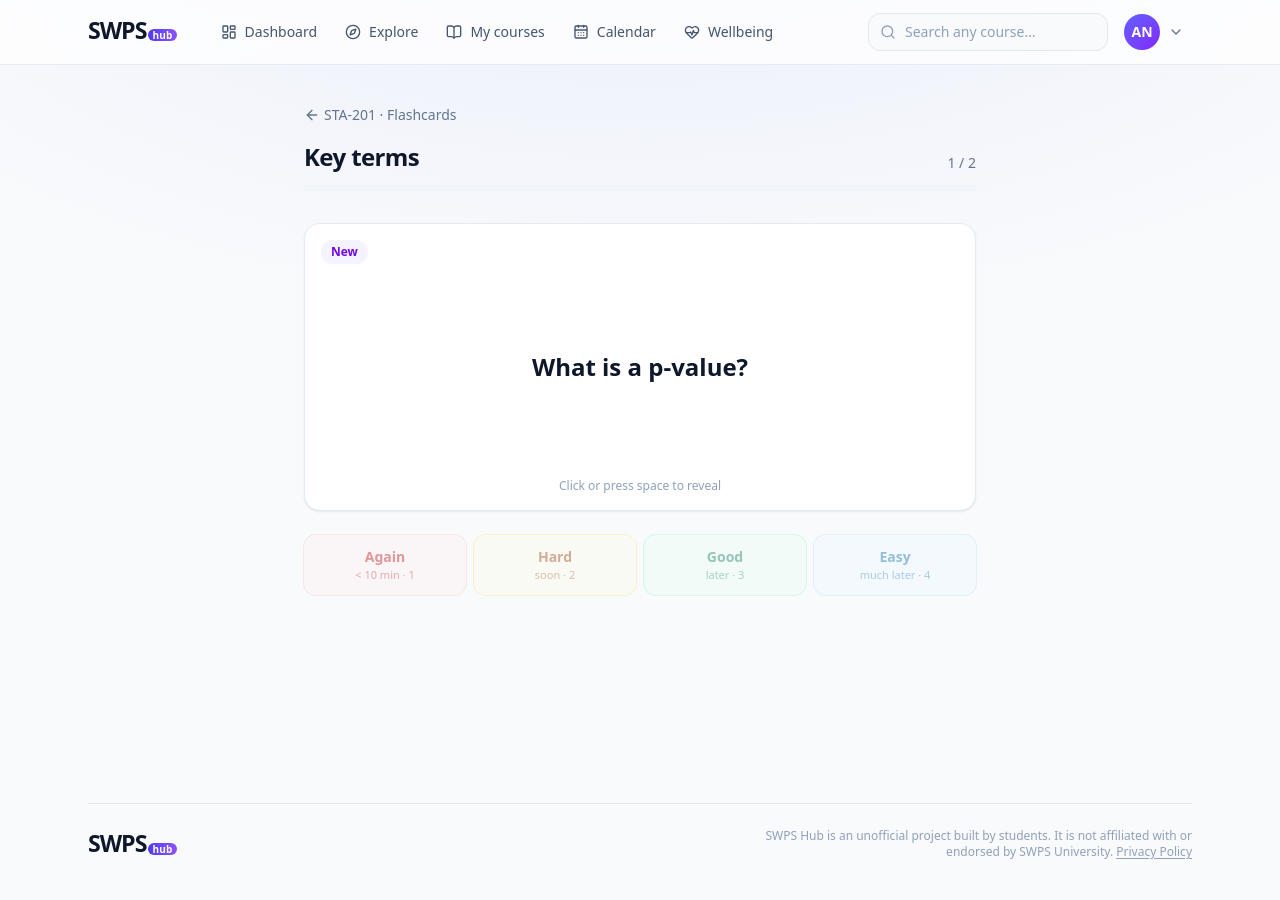
Test case: Studying a deck › reveals each card, records the grade and repeats cards marked Again
expect the button "Good later · 3" is disabled: met, box [644,535,806,595]
Type keys " "
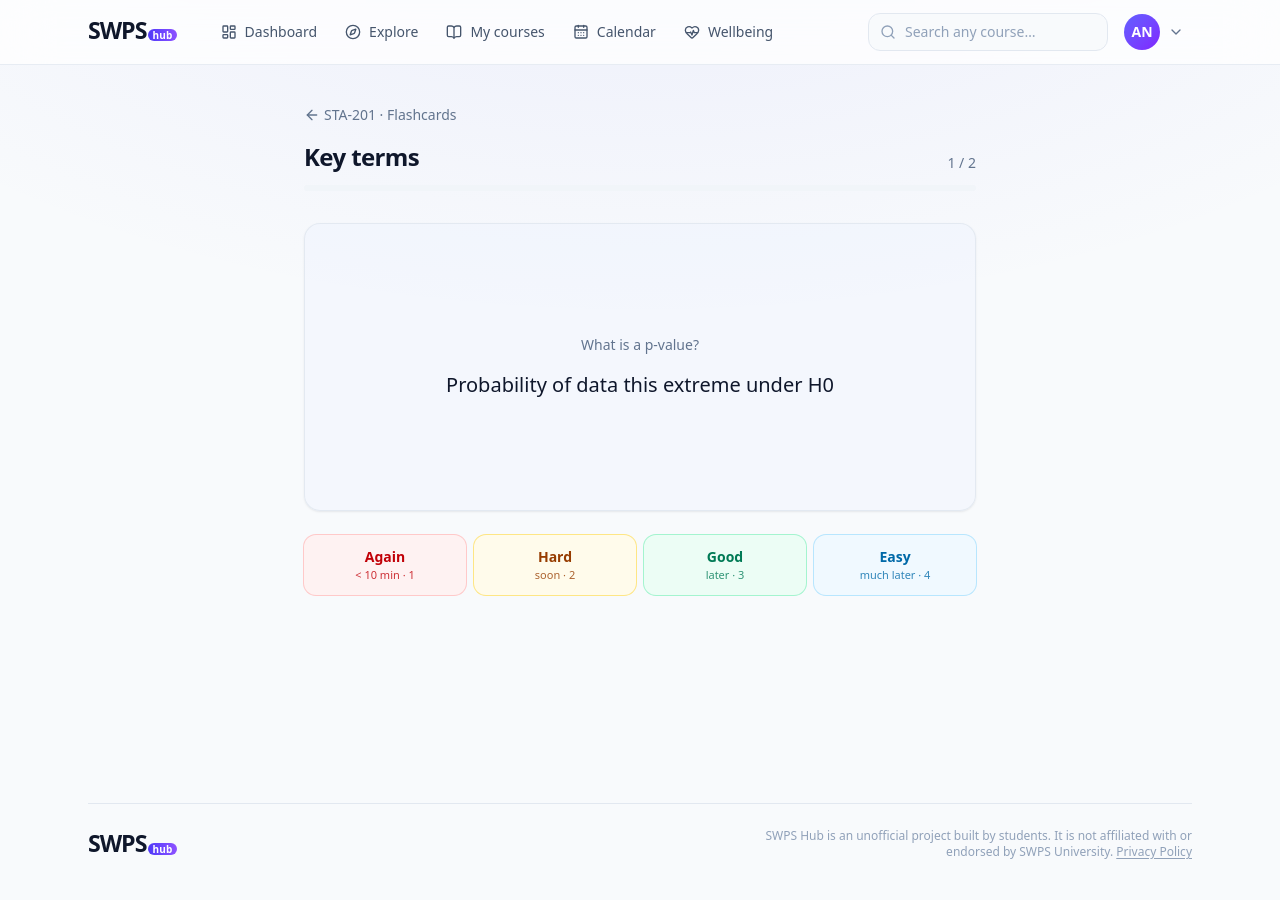
Click the button "Again < 10 min · 1" at (385, 565), box [304,535,466,595]
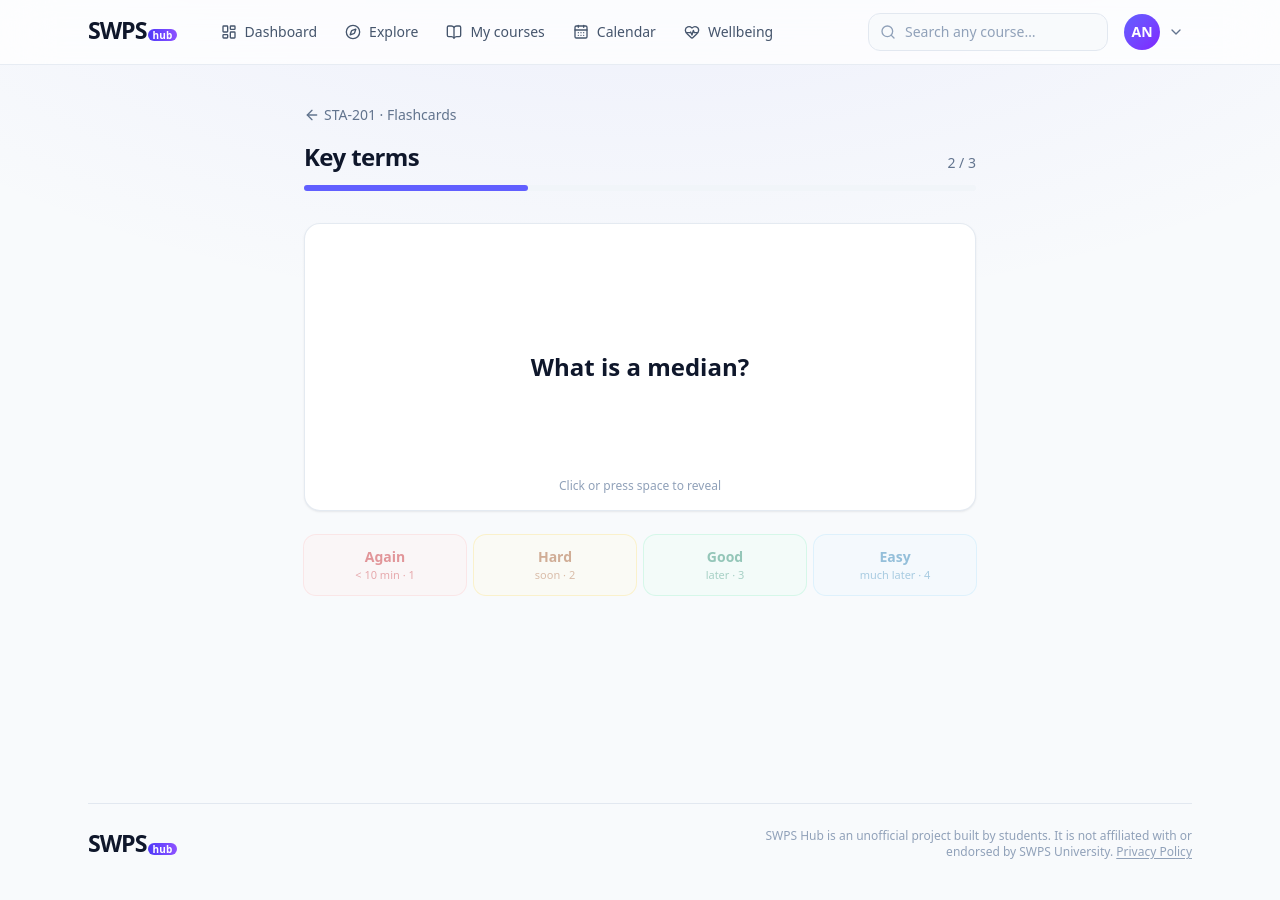
Click the button with aria-label "Show the answer" at (640, 367), box [304,223,976,511]
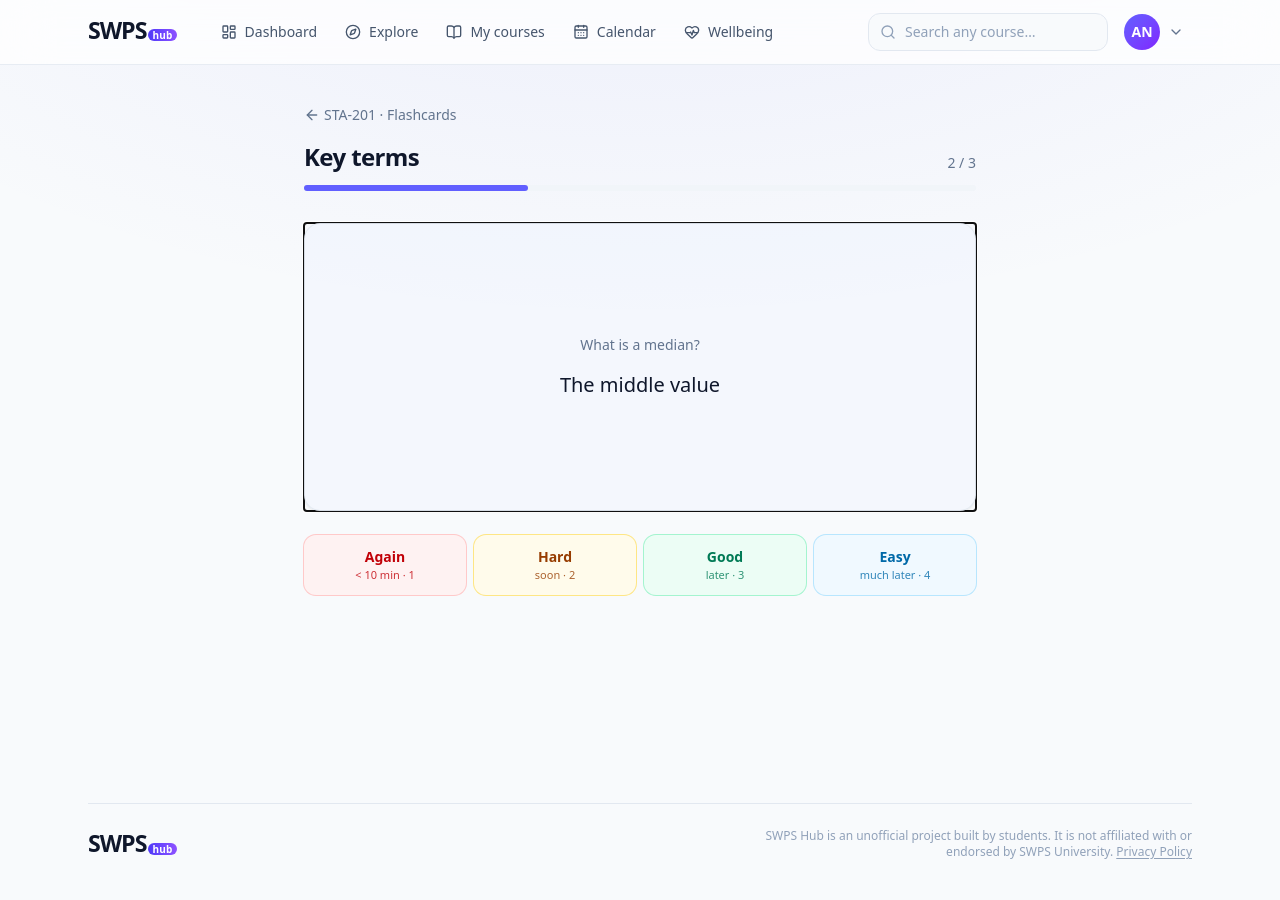
Type keys "3"
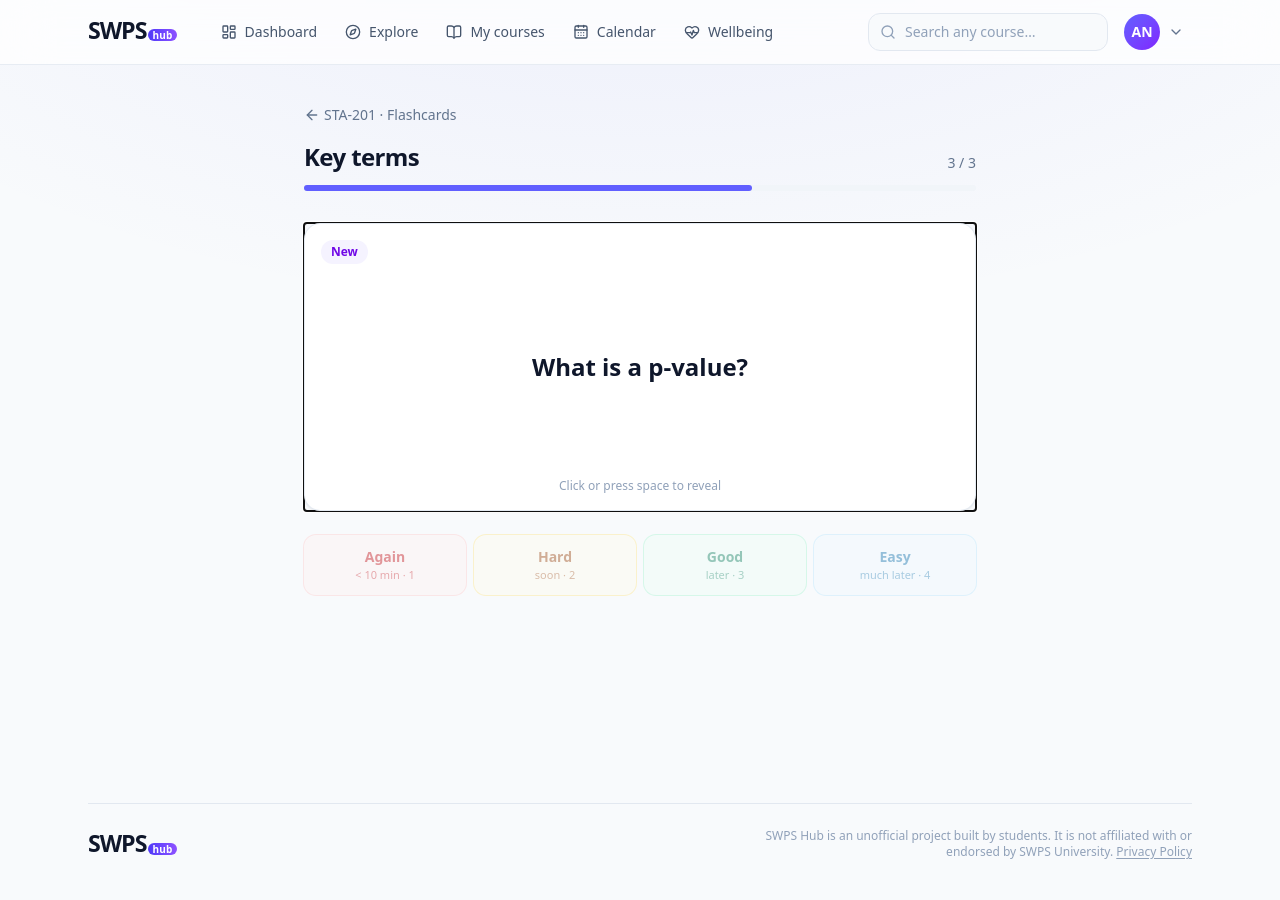
expect the text "3 / 3" is shown: met, box [948,153,976,173]
Type keys " "
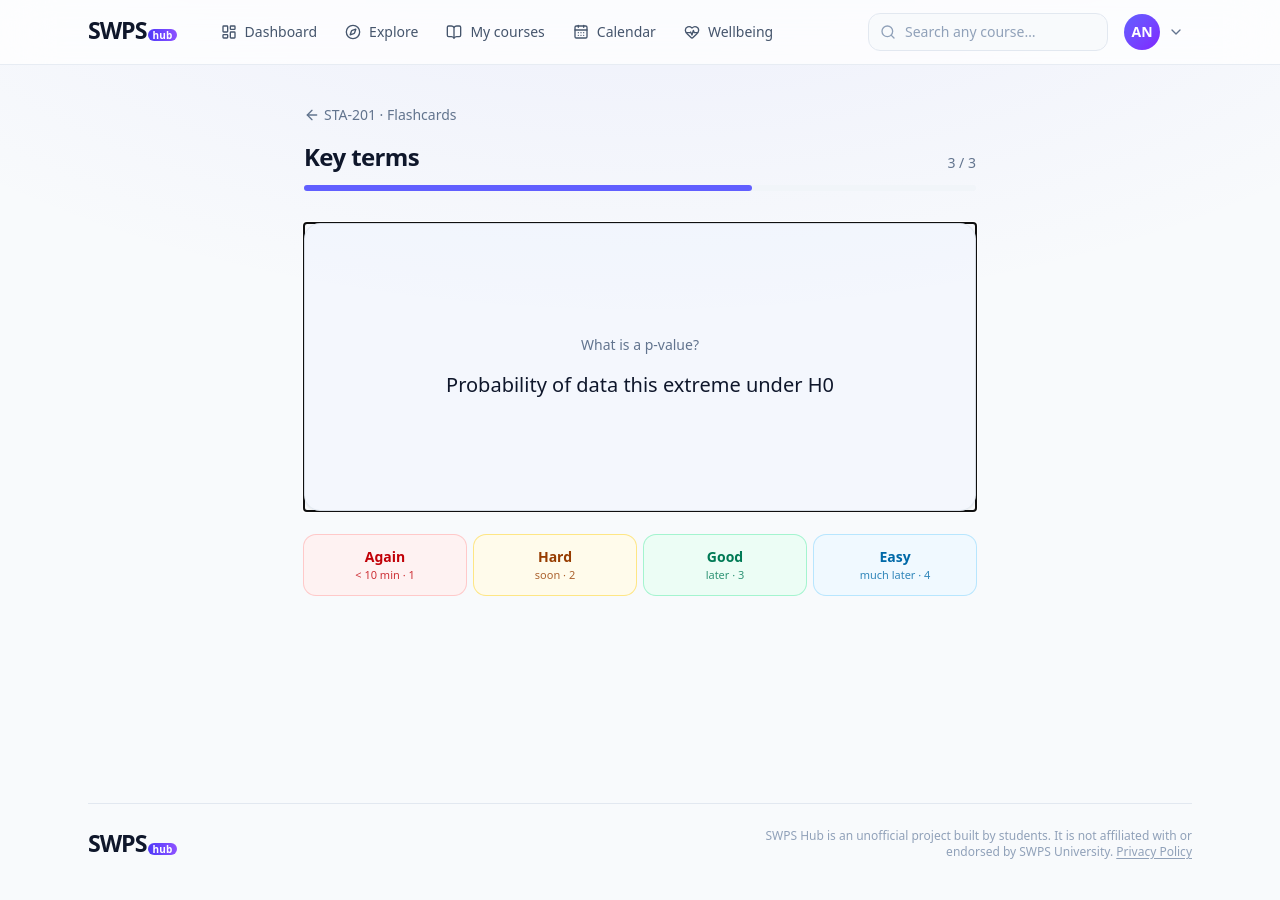
Type keys "4"
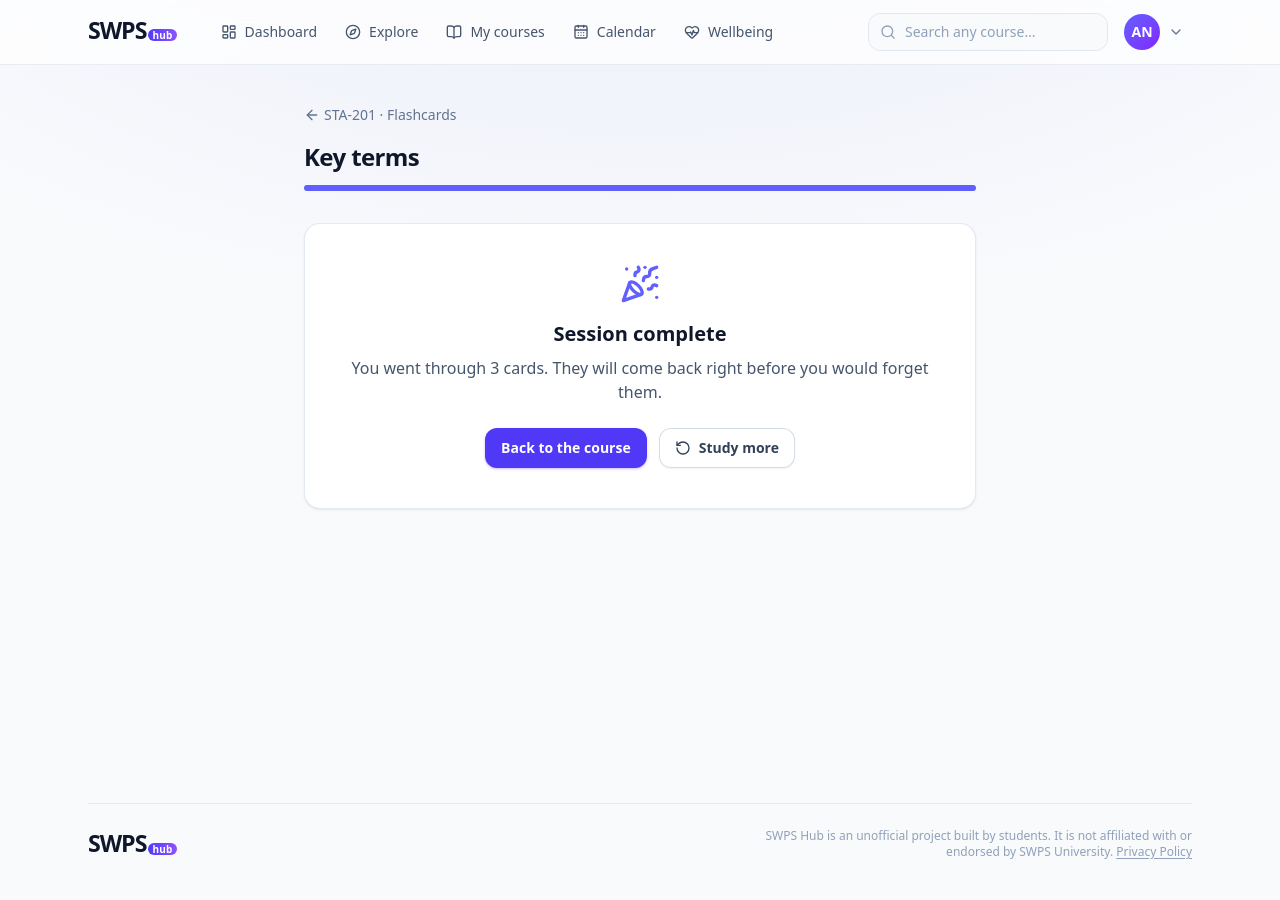
expect the heading "Session complete" is shown: met, box [554,320,726,347]
